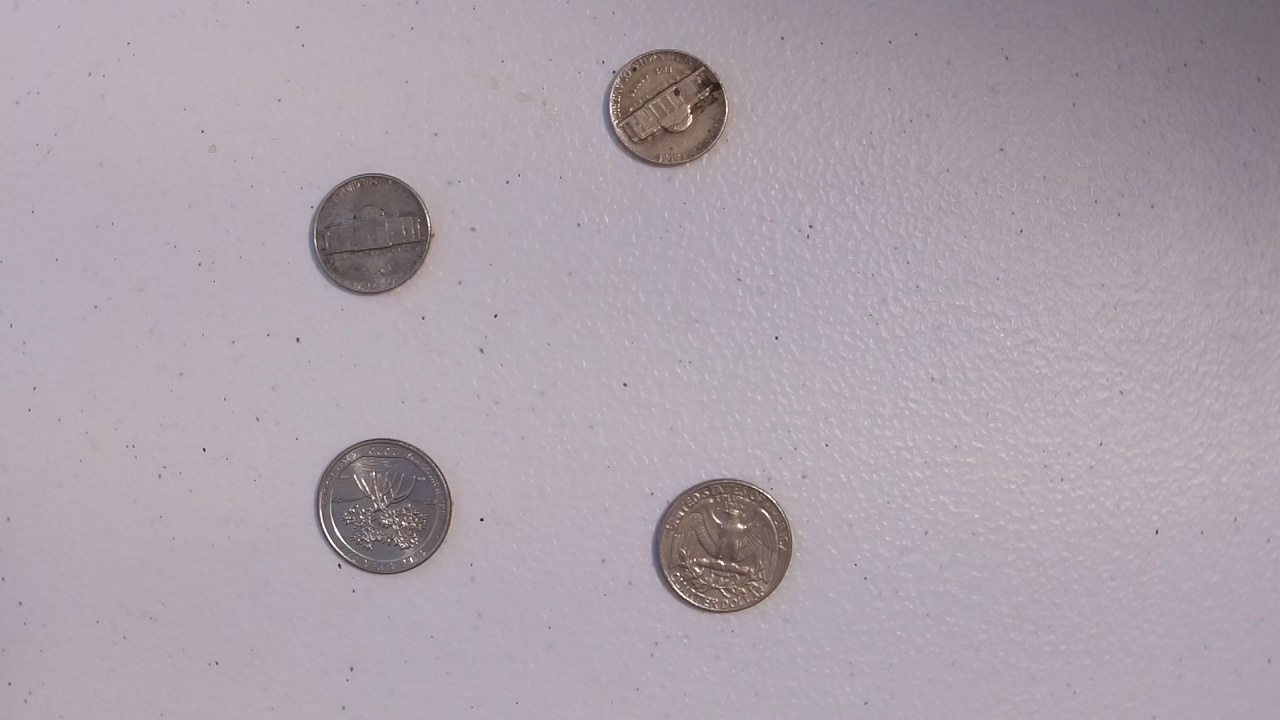nickel: (599, 42, 735, 170), (305, 170, 438, 297)
quarter: (311, 432, 457, 580), (650, 473, 798, 619)
